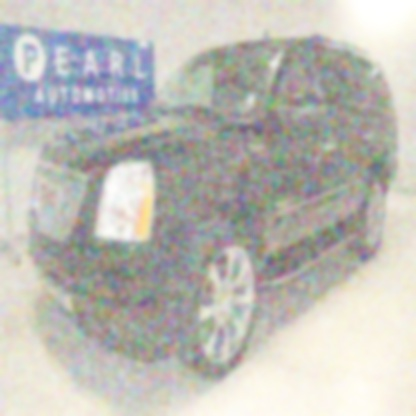Vehicle: (26, 27, 402, 384)
